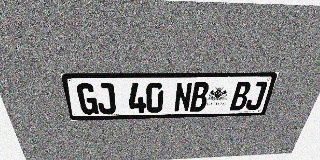0: (146, 82, 164, 113)
4: (128, 83, 146, 113)
B: (229, 81, 252, 111), (190, 82, 210, 112)
G: (76, 83, 99, 115)
J: (245, 81, 268, 110), (95, 83, 116, 114)
N: (174, 82, 193, 112)
